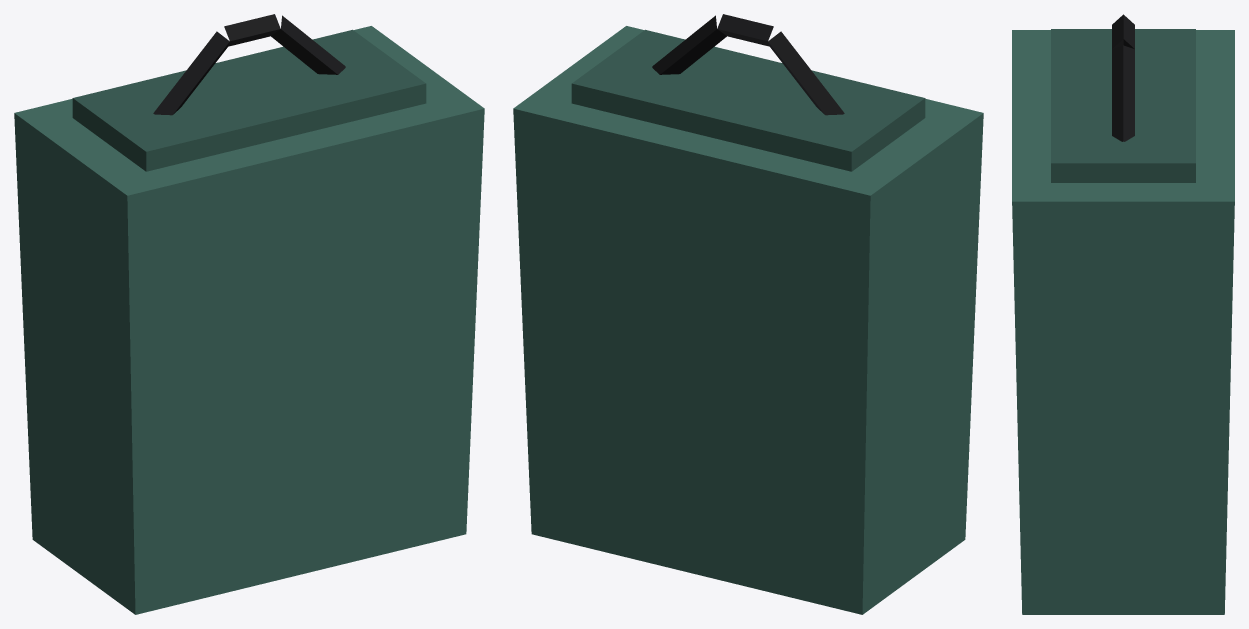
File: shopping_bag_green.glb
3 views of the same model, side by side, from view 1: azimuth 30°, elevation 25°; view 2: azimuth 150°, elevation 25°; view 3: azimuth 270°, elevation 25° (orthographic).
Parts seen in each view (by area): view 1: shopping_bag_green; view 2: shopping_bag_green; view 3: shopping_bag_green.
Boxes of the visible parts, box(x1,y1,x2,y2) form: shopping_bag_green: box(14, 14, 484, 614); shopping_bag_green: box(513, 14, 983, 614); shopping_bag_green: box(1012, 14, 1234, 614).
Bounding box in the file's own units: 0.2808 × 0.388 × 0.154.
